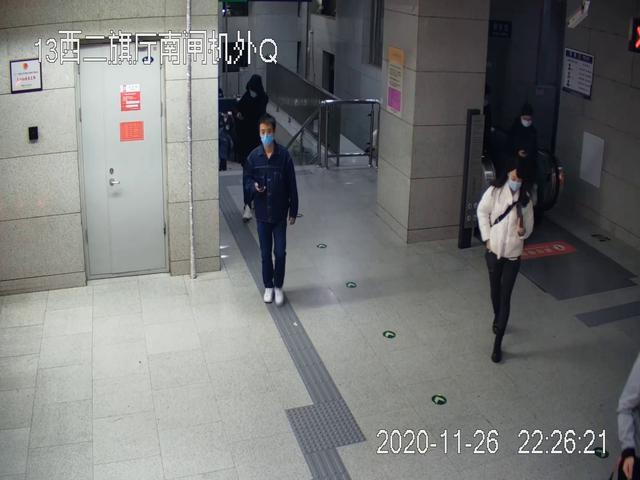person: (476, 157, 537, 364), (244, 114, 302, 306), (230, 73, 275, 222)
